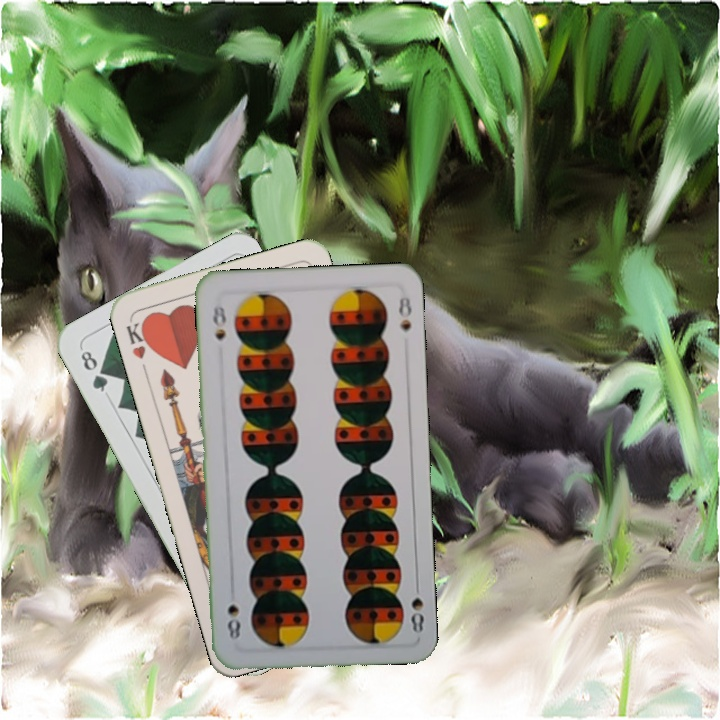G8: (76, 344, 111, 395)
HK: (122, 315, 155, 362)
S8: (407, 578, 426, 636), (209, 299, 229, 342)
